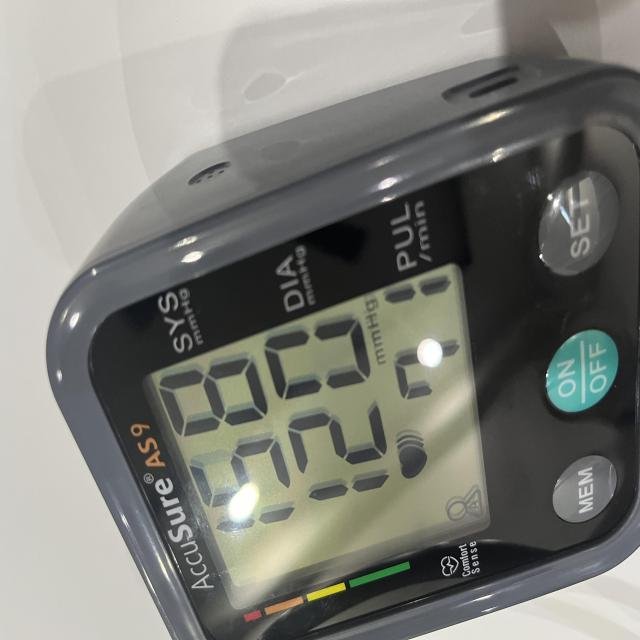bp: (44, 8, 640, 640)
